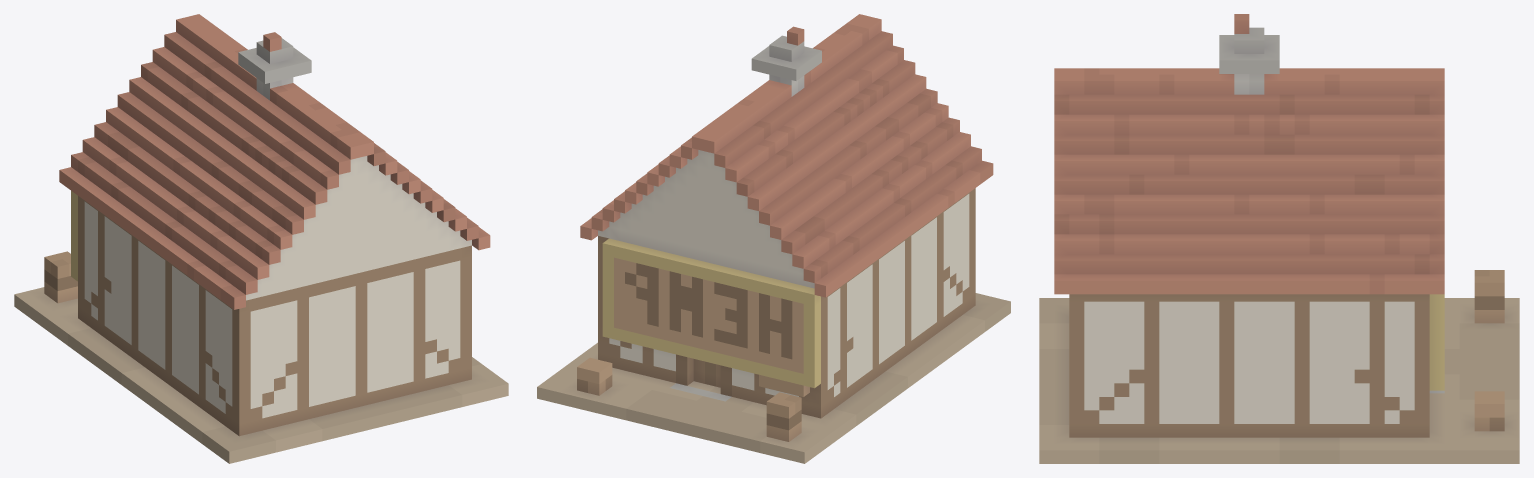
Rendered from hemp_farm.glb.
3 renders of one model, left to right at view 1: azimuth 30°, elevation 25°; view 2: azimuth 150°, elevation 25°; view 3: azimuth 270°, elevation 25°, orthographic. The views are drawn at different scales.
Parts seen in each view (by area): view 1: hemp_farm; view 2: hemp_farm; view 3: hemp_farm.
Boxes of the visible parts, x1,y1,x2,y2 form: hemp_farm: (14,14,508,463); hemp_farm: (537,14,1010,463); hemp_farm: (1039,14,1519,463).
Size of the model in its own units: 3 by 3.38 by 4.
